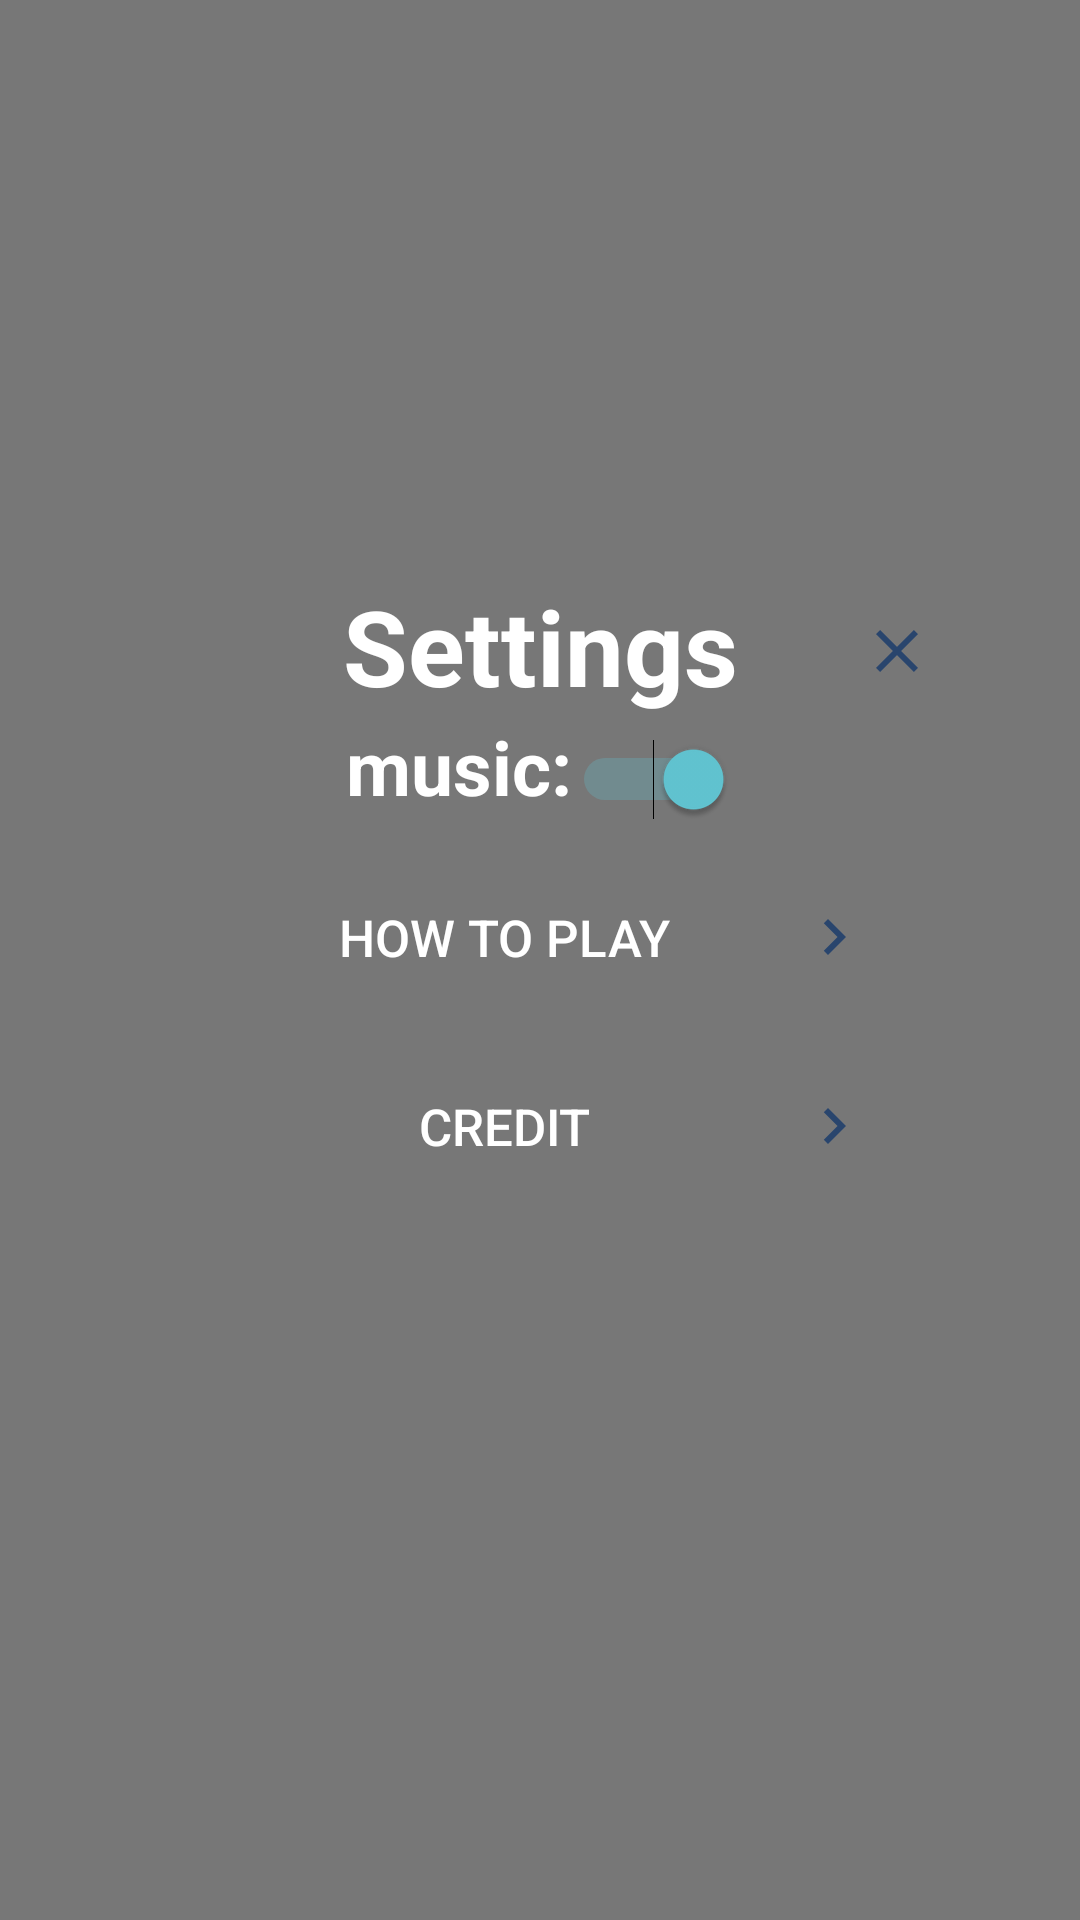

Screen size 1080 × 1920. Icon name, then its box in pixels as (x1,y1,x2,y2):
exit: (876,630,918,672)
